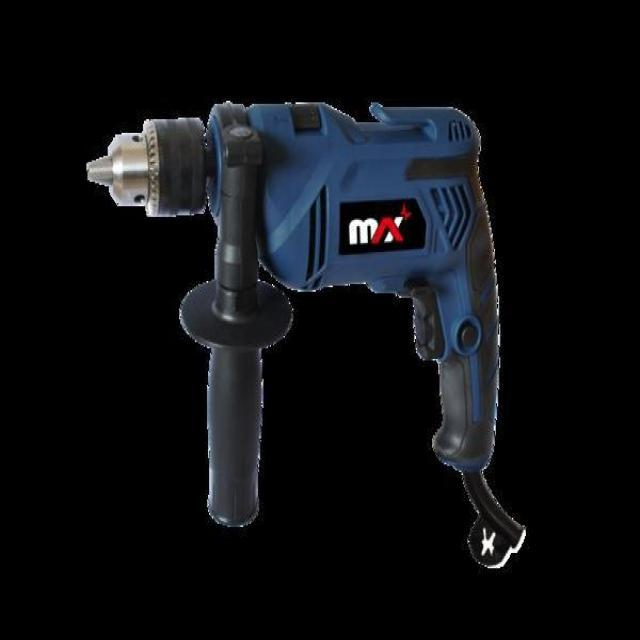drill: (86, 102, 521, 568)
